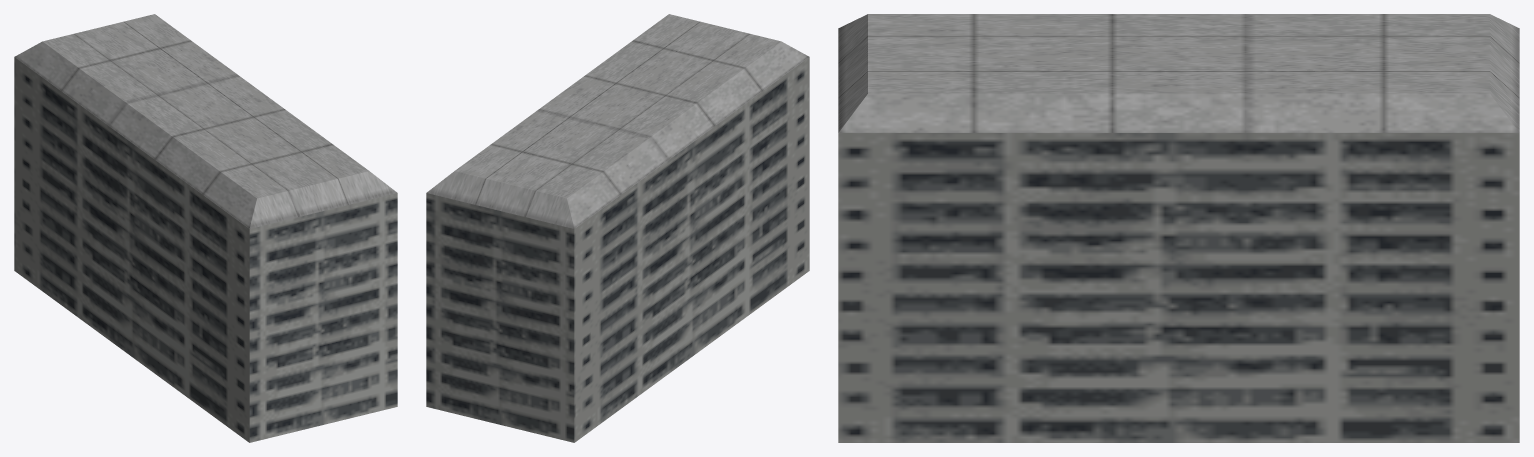
File: Edificio9.fbx
The picture shows the model from 3 angles, left to right: view 1: azimuth 30°, elevation 25°; view 2: azimuth 150°, elevation 25°; view 3: azimuth 270°, elevation 25°; orthographic projection. The views are drawn at different scales.
Parts seen in each view (by area): view 1: Cube.020; view 2: Cube.020; view 3: Cube.020.
Part boxes in pixels (x1,y1,x2,y2): Cube.020: (14,14,397,442); Cube.020: (426,14,809,442); Cube.020: (838,14,1519,442).
Size of the model in its own units: 400 by 600 by 1100.
2 materials, 2 textured.
